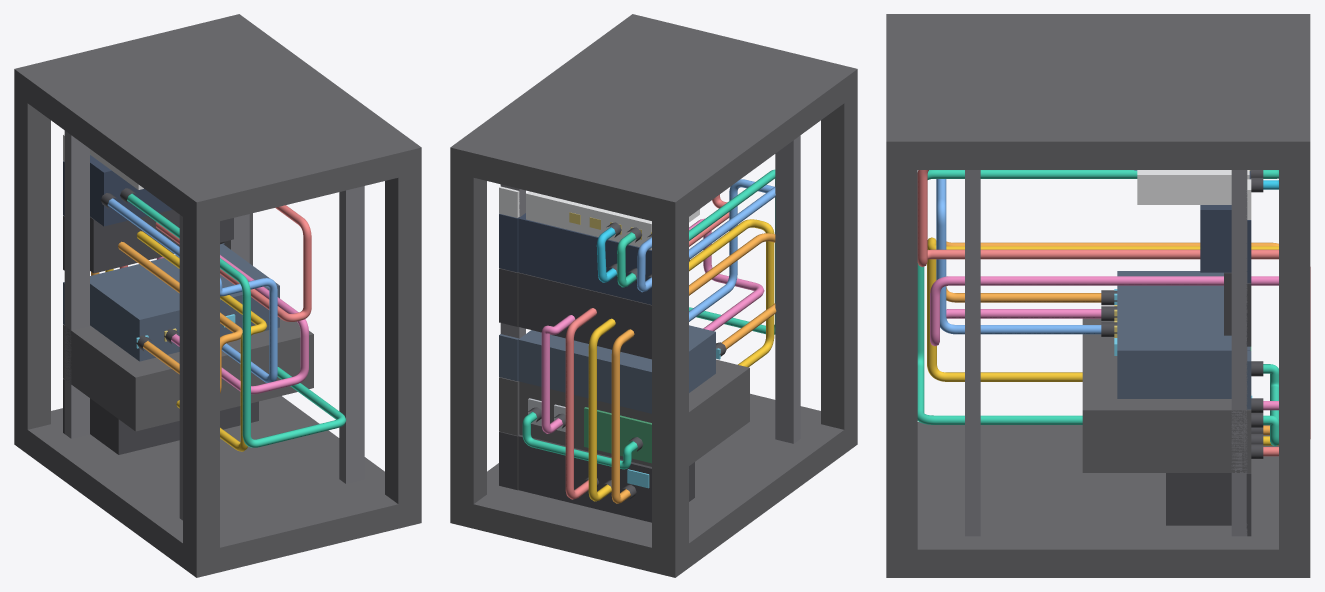
File: rack-scene.glb
The picture shows the model from 3 angles, left to right: view 1: azimuth 30°, elevation 25°; view 2: azimuth 150°, elevation 25°; view 3: azimuth 270°, elevation 25°; orthographic projection. The views are drawn at different scales.
Parts seen in each view (by area): view 1: RackRoofFrame, RackBaseFrame, RackCornerPost_RL, RackCornerPost_RR, RackCornerPost_FL, Device_carrier-pi5-u2, Device_gw-beryl-u3, RackRail_RR, RackRail_FL, Cable_trunk-ks2-to-patch2, Device_brush-u4, Device_pdu-u1 (+9 smaller); view 2: RackRoofFrame, RackBaseFrame, RackCornerPost_FL, RackCornerPost_FR, RackCornerPost_RL, RackRail_RL, Device_gw-beryl-u3, Device_carrier-pi5-u2, Device_brush-u4, Device_patch-u5, Device_pdu-u1, Cable_pwr-pdu-to-pi5 (+18 smaller); view 3: RackRoofFrame, RackBaseFrame, Device_carrier-pi5-u2, RackCornerPost_RR, RackCornerPost_FR, Device_gw-beryl-u3, RackRail_FR, RackRail_RR, Cable_wan-ks-to-beryl, Cable_pwr-pdu-to-flex, Cable_trunk-ks2-to-patch2, Device_pdu-u1 (+6 smaller).
Part boxes in pixels (bbox=[...]): RackRoofFrame: bbox=[14, 14, 421, 225]; RackBaseFrame: bbox=[14, 396, 421, 577]; RackCornerPost_RL: bbox=[183, 187, 219, 577]; RackCornerPost_RR: bbox=[385, 137, 421, 504]; RackCornerPost_FL: bbox=[14, 63, 50, 453]; Device_carrier-pi5-u2: bbox=[65, 318, 313, 431]; Device_gw-beryl-u3: bbox=[90, 243, 279, 361]; RackRail_RR: bbox=[339, 186, 364, 483]; RackRail_FL: bbox=[64, 130, 89, 438]; Cable_trunk-ks2-to-patch2: bbox=[127, 193, 346, 447]; Device_brush-u4: bbox=[90, 209, 233, 273]; Device_pdu-u1: bbox=[90, 398, 258, 454]; RackRoofFrame: bbox=[450, 14, 856, 226]; RackBaseFrame: bbox=[450, 393, 857, 577]; RackCornerPost_FL: bbox=[652, 187, 688, 577]; RackCornerPost_FR: bbox=[450, 137, 486, 528]; RackCornerPost_RL: bbox=[821, 63, 857, 453]; RackRail_RL: bbox=[775, 135, 800, 443]; Device_gw-beryl-u3: bbox=[518, 325, 715, 413]; Device_carrier-pi5-u2: bbox=[519, 359, 749, 466]; Device_brush-u4: bbox=[518, 272, 651, 359]; Device_patch-u5: bbox=[518, 213, 651, 304]; Device_pdu-u1: bbox=[518, 435, 694, 522]; Cable_pwr-pdu-to-pi5: bbox=[588, 219, 774, 501]; RackRoofFrame: bbox=[886, 14, 1310, 169]; RackBaseFrame: bbox=[886, 422, 1310, 577]; Device_carrier-pi5-u2: bbox=[1082, 318, 1247, 472]; RackCornerPost_RR: bbox=[886, 128, 917, 577]; RackCornerPost_FR: bbox=[1279, 128, 1310, 577]; Device_gw-beryl-u3: bbox=[1117, 271, 1250, 398]; RackRail_FR: bbox=[1231, 170, 1247, 536]; RackRail_RR: bbox=[965, 170, 980, 536]; Cable_wan-ks-to-beryl: bbox=[930, 276, 1278, 410]; Cable_pwr-pdu-to-flex: bbox=[917, 170, 1310, 456]; Cable_trunk-ks2-to-patch2: bbox=[917, 170, 1137, 424]; Device_pdu-u1: bbox=[1166, 473, 1231, 525].
Bounding box in the file's own units: 0.1924 × 0.3067 × 0.2702.
